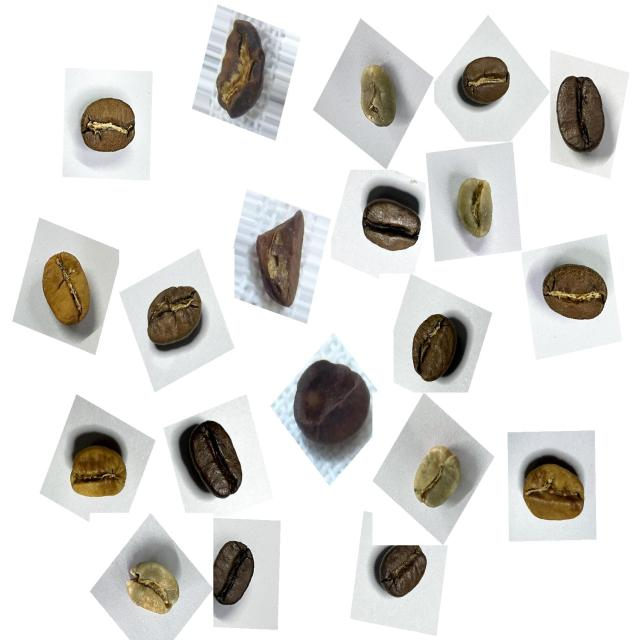bad: (286, 346, 379, 457), (243, 203, 318, 319), (203, 12, 276, 126)
dark: (175, 412, 258, 512), (550, 64, 618, 165), (352, 178, 428, 264), (369, 542, 438, 612)
green: (403, 434, 475, 524), (118, 551, 189, 634), (348, 56, 410, 142), (443, 166, 505, 250)
light: (515, 447, 597, 542), (30, 241, 105, 342), (60, 424, 140, 516)
medium: (534, 253, 617, 338), (69, 85, 147, 172), (136, 276, 213, 364), (400, 304, 473, 392), (454, 48, 519, 119)
